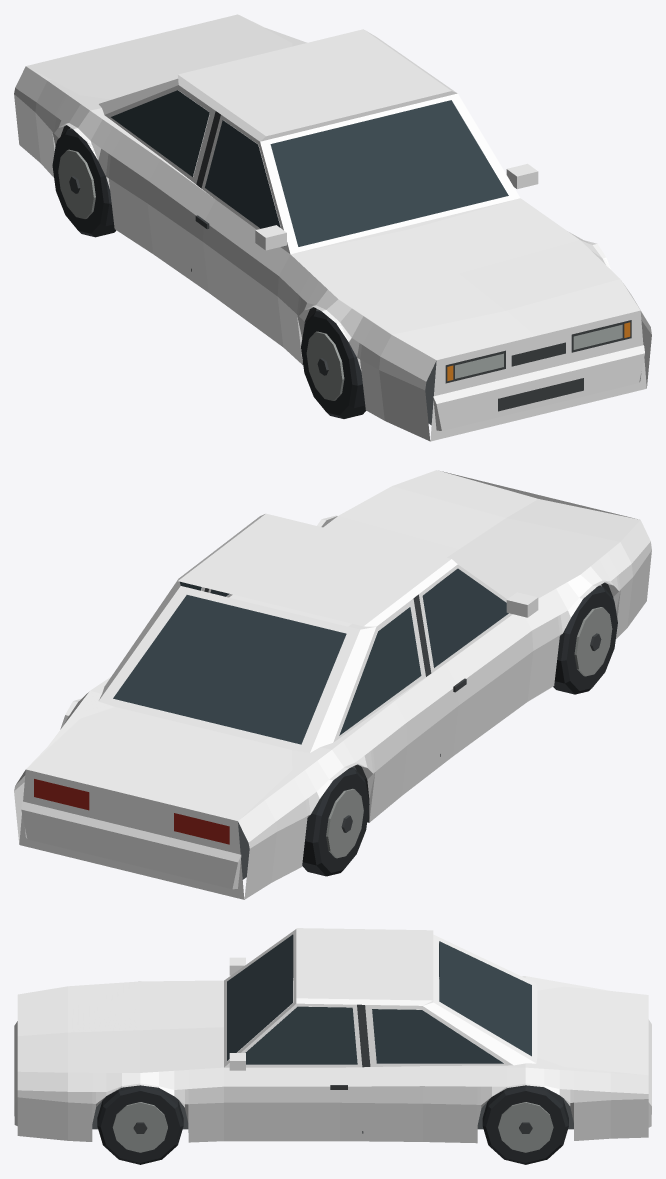
The model's file is kanaya_asakaze_gt_ii.glb.
The picture shows the model from 3 angles, top to bottom: view 1: azimuth 30°, elevation 25°; view 2: azimuth 150°, elevation 25°; view 3: azimuth 270°, elevation 25°; orthographic projection. The views are drawn at different scales.
Parts seen in each view (by area): view 1: kanaya_asakaze_gt_ii; view 2: kanaya_asakaze_gt_ii; view 3: kanaya_asakaze_gt_ii.
Part boxes in pixels (x1,y1,x2,y2): kanaya_asakaze_gt_ii: (14,14,651,441); kanaya_asakaze_gt_ii: (14,470,651,899); kanaya_asakaze_gt_ii: (14,928,651,1164).
Size of the model in its own units: 1.82 by 1.24 by 4.7.
Materials: 8 (1 with a texture image).
